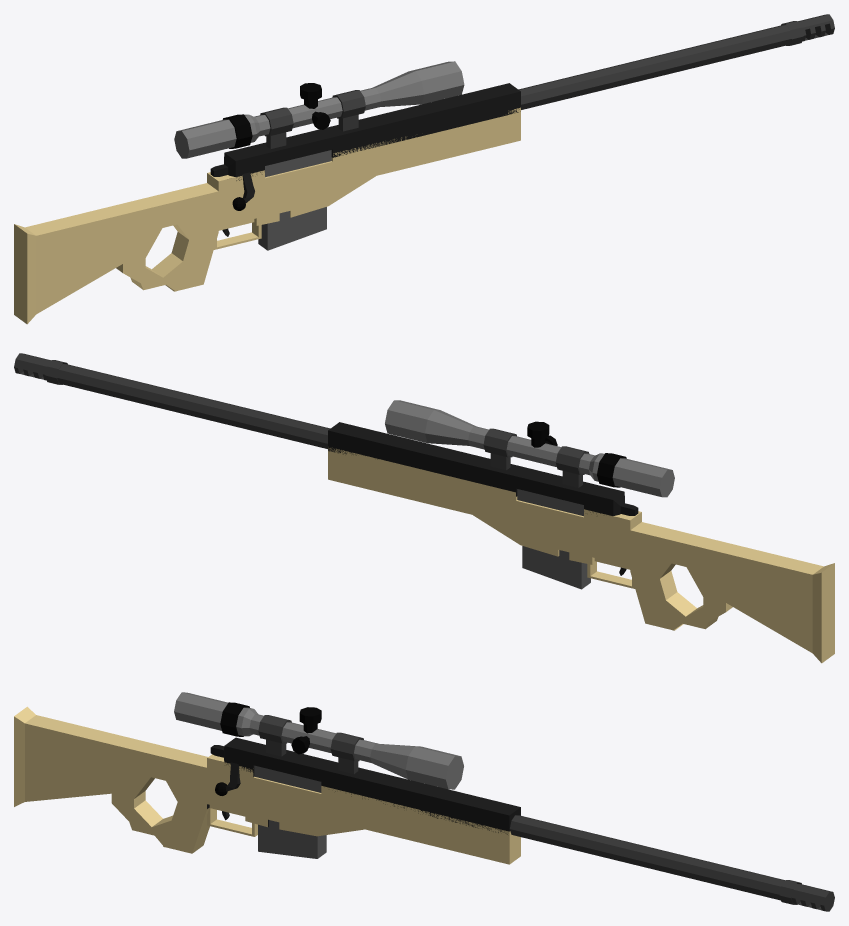
File: Sniper.fbx
3 renders of one model, top to bottom at view 1: azimuth 30°, elevation 25°; view 2: azimuth 150°, elevation 25°; view 3: azimuth 330°, elevation 25°, orthographic.
Parts seen in each view (by area): view 1: Sniper; view 2: Sniper; view 3: Sniper.
Part boxes in pixels (box(x1,y1,x2,y2)): Sniper: box(14, 14, 834, 324); Sniper: box(14, 353, 834, 663); Sniper: box(14, 692, 834, 911).
Bounding box in the file's own units: 3901 × 764 × 179.
